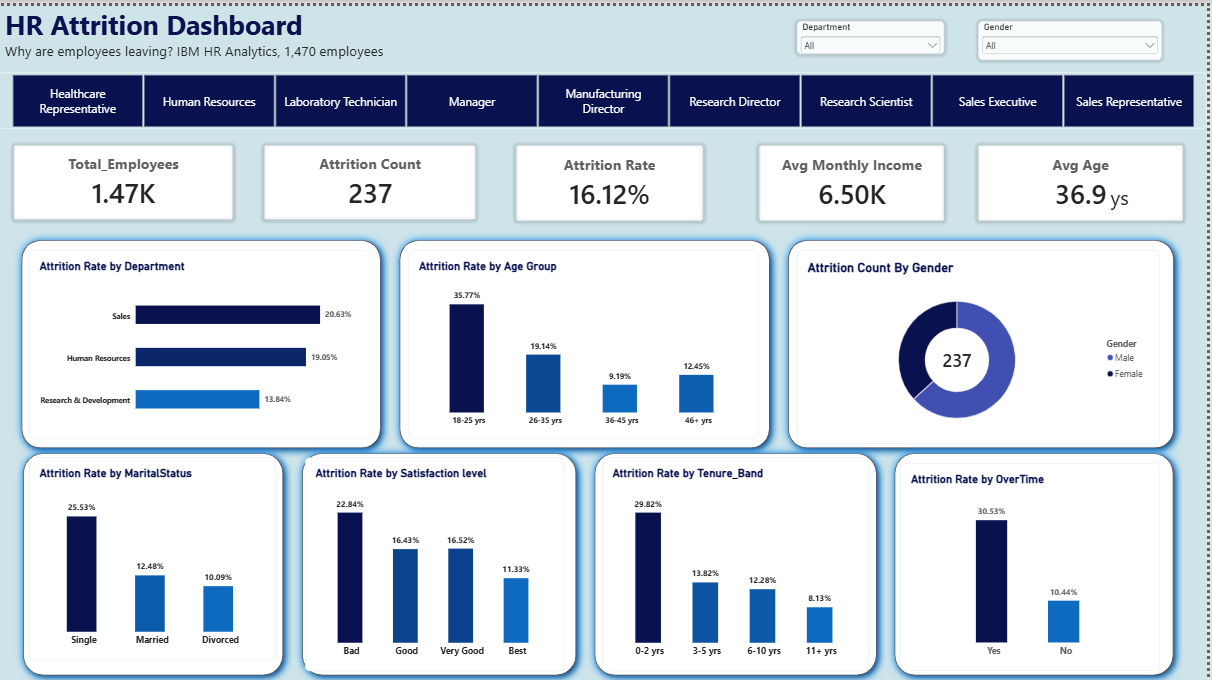

What the dashboard file says about the page in this screenshot:
{"tool":"powerbi","page":{"name":"HR_Dashboard","canvas":[1920,1080],"ordinal":0},"visuals":[{"type":"textbox","box":[9.5,0,644.2,126.5],"z":0},{"type":"slicer","fields":{"Values":["HR.Department"]},"box":[1269.3,23.9,233.8,52.5],"z":1000},{"type":"slicer","fields":{"Values":["HR.Gender"]},"box":[1558,23.9,291.1,62],"z":2000},{"type":"slicer","fields":{"Values":["HR.JobRole"]},"box":[0,105,1920.7,90.7],"z":3000},{"type":"shape","box":[22.5,357.5,600,360],"z":4000},{"type":"cardVisual","fields":{"Data":["HR.Total_Employees"]},"box":[25,222.5,347.5,117.5],"z":5000},{"type":"cardVisual","fields":{"Data":["HR.Attrition Count"]},"box":[422.5,222.5,335,117.5],"z":6000},{"type":"cardVisual","fields":{"Data":["HR.Attrition Rate"]},"box":[823.9,221.9,295.9,119.3],"z":7000},{"type":"cardVisual","fields":{"Data":["HR.Avg Monthly Income"]},"box":[1209.7,221.9,293.5,119.3],"z":8000},{"type":"cardVisual","fields":{"Data":["HR.Avg Age"]},"box":[1558,221.9,324.5,119.3],"z":9000},{"type":"shape","box":[622.5,357.5,617.5,360],"z":10000},{"type":"shape","box":[1240,357.5,642.5,360],"z":11000},{"type":"shape","box":[25,697.5,442.5,382.5],"z":12000},{"type":"shape","box":[467.5,697.5,465,382.5],"z":13000},{"type":"shape","box":[932.5,697.5,477.5,382.5],"z":14000},{"type":"shape","box":[1410,697.5,472.5,382.5],"z":15000},{"type":"donutChart","title":"Attrition Count By Gender","fields":{"Category":["HR.Gender"],"Y":["HR.Attrition Count"]},"box":[1270,390,577.5,307.5],"z":16000},{"type":"columnChart","title":"Attrition Rate by Age Group","fields":{"Category":["HR.Age_group"],"Y":["HR.Attrition Rate"]},"box":[652.5,390,557.5,300],"z":17000},{"type":"barChart","title":"Attrition Rate by Department","fields":{"Category":["HR.Department"],"Y":["HR.Attrition Rate"]},"box":[47.5,390,542.5,300],"z":18000},{"type":"columnChart","title":"Attrition Rate by Satisfaction level","fields":{"Category":["HR.Satisfaction_level"],"Y":["HR.Attrition Rate"]},"box":[487.5,717.5,412.5,340],"z":19000},{"type":"clusteredColumnChart","fields":{"Category":["HR.MaritalStatus"],"Y":["HR.Attrition Rate"]},"box":[47.5,717.5,392.5,322.5],"z":20000},{"type":"clusteredColumnChart","fields":{"Category":["HR.Tenure_Band"],"Y":["HR.Attrition Rate"]},"box":[960,717.5,425,340],"z":21000},{"type":"clusteredColumnChart","fields":{"Category":["HR.OverTime"],"Y":["HR.Attrition Rate"]},"box":[1435,727.5,412.5,330],"z":22000},{"type":"textbox","box":[1767.5,282.5,80,60],"z":23000}]}

Visuals, with their boxes in screenshot pixels (x1, y1, x2, y2), scaled from the page's 1920x1080 canvas onto the 1212x680 screenshot:
textbox: (x1=6, y1=0, x2=413, y2=80)
slicer - HR.Department: (x1=801, y1=15, x2=949, y2=48)
slicer - HR.Gender: (x1=983, y1=15, x2=1167, y2=54)
slicer - HR.JobRole: (x1=0, y1=66, x2=1211, y2=123)
shape: (x1=14, y1=225, x2=393, y2=452)
cardVisual - HR.Total_Employees: (x1=16, y1=140, x2=235, y2=214)
cardVisual - HR.Attrition Count: (x1=267, y1=140, x2=478, y2=214)
cardVisual - HR.Attrition Rate: (x1=520, y1=140, x2=707, y2=215)
cardVisual - HR.Avg Monthly Income: (x1=764, y1=140, x2=949, y2=215)
cardVisual - HR.Avg Age: (x1=983, y1=140, x2=1188, y2=215)
shape: (x1=393, y1=225, x2=783, y2=452)
shape: (x1=783, y1=225, x2=1188, y2=452)
shape: (x1=16, y1=439, x2=295, y2=679)
shape: (x1=295, y1=439, x2=589, y2=679)
shape: (x1=589, y1=439, x2=890, y2=679)
shape: (x1=890, y1=439, x2=1188, y2=679)
"Attrition Count By Gender" donutChart: (x1=802, y1=246, x2=1166, y2=439)
"Attrition Rate by Age Group" columnChart: (x1=412, y1=246, x2=764, y2=434)
"Attrition Rate by Department" barChart: (x1=30, y1=246, x2=372, y2=434)
"Attrition Rate by Satisfaction level" columnChart: (x1=308, y1=452, x2=568, y2=666)
clusteredColumnChart - HR.MaritalStatus x HR.Attrition Rate: (x1=30, y1=452, x2=278, y2=655)
clusteredColumnChart - HR.Tenure_Band x HR.Attrition Rate: (x1=606, y1=452, x2=874, y2=666)
clusteredColumnChart - HR.OverTime x HR.Attrition Rate: (x1=906, y1=458, x2=1166, y2=666)
textbox: (x1=1116, y1=178, x2=1166, y2=216)
